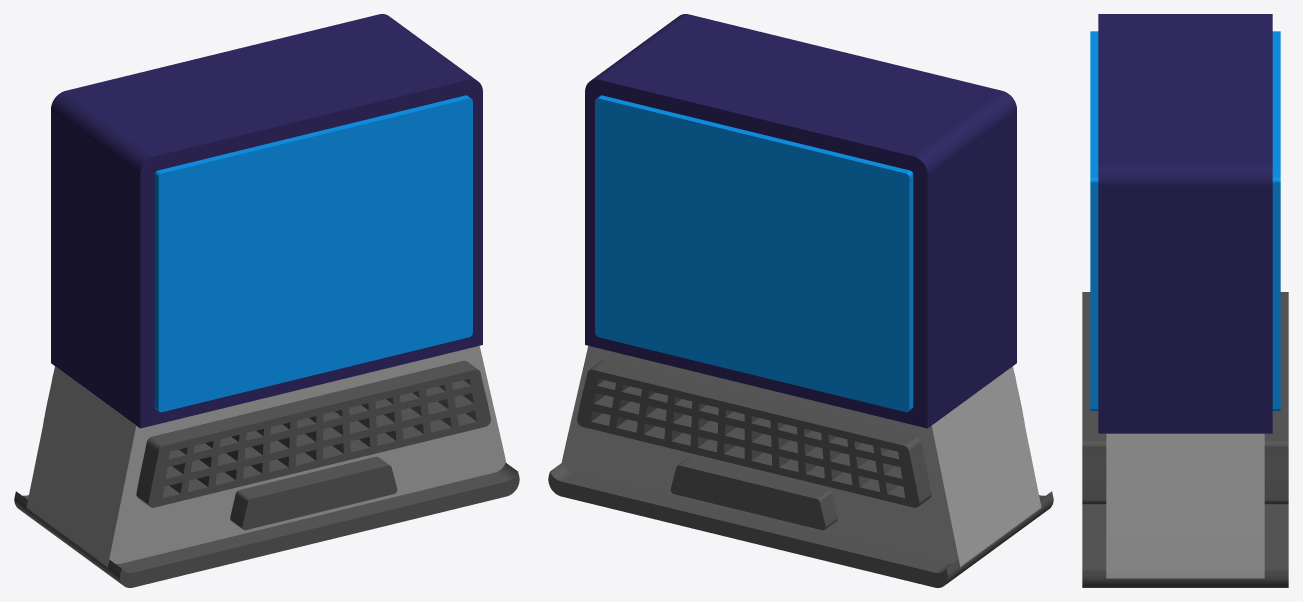
3 renders of one model, left to right at view 1: azimuth 30°, elevation 25°; view 2: azimuth 150°, elevation 25°; view 3: azimuth 270°, elevation 25°, orthographic. The views are drawn at different scales.
Parts seen in each view (by area): view 1: U+1F4BB_layer02_obj00, U+1F4BB_layer01_obj00, U+1F4BB_layer03_obj00, U+1F4BB_layer00_obj00; view 2: U+1F4BB_layer02_obj00, U+1F4BB_layer01_obj00, U+1F4BB_layer03_obj00, U+1F4BB_layer00_obj00; view 3: U+1F4BB_layer01_obj00, U+1F4BB_layer00_obj00, U+1F4BB_layer03_obj00, U+1F4BB_layer02_obj00.
Boxes of the visible parts, x1,y1,x2,y2 form: U+1F4BB_layer02_obj00: (154, 95, 472, 412); U+1F4BB_layer01_obj00: (51, 14, 482, 428); U+1F4BB_layer03_obj00: (14, 360, 519, 587); U+1F4BB_layer00_obj00: (26, 346, 506, 567); U+1F4BB_layer02_obj00: (595, 95, 913, 412); U+1F4BB_layer01_obj00: (585, 14, 1016, 428); U+1F4BB_layer03_obj00: (548, 360, 1053, 587); U+1F4BB_layer00_obj00: (561, 346, 1041, 567); U+1F4BB_layer01_obj00: (1098, 14, 1272, 433); U+1F4BB_layer00_obj00: (1106, 433, 1264, 578); U+1F4BB_layer03_obj00: (1082, 292, 1288, 587); U+1F4BB_layer02_obj00: (1090, 31, 1280, 410).
Bounding box in the file's own units: 0.5678 × 0.5677 × 0.26.
